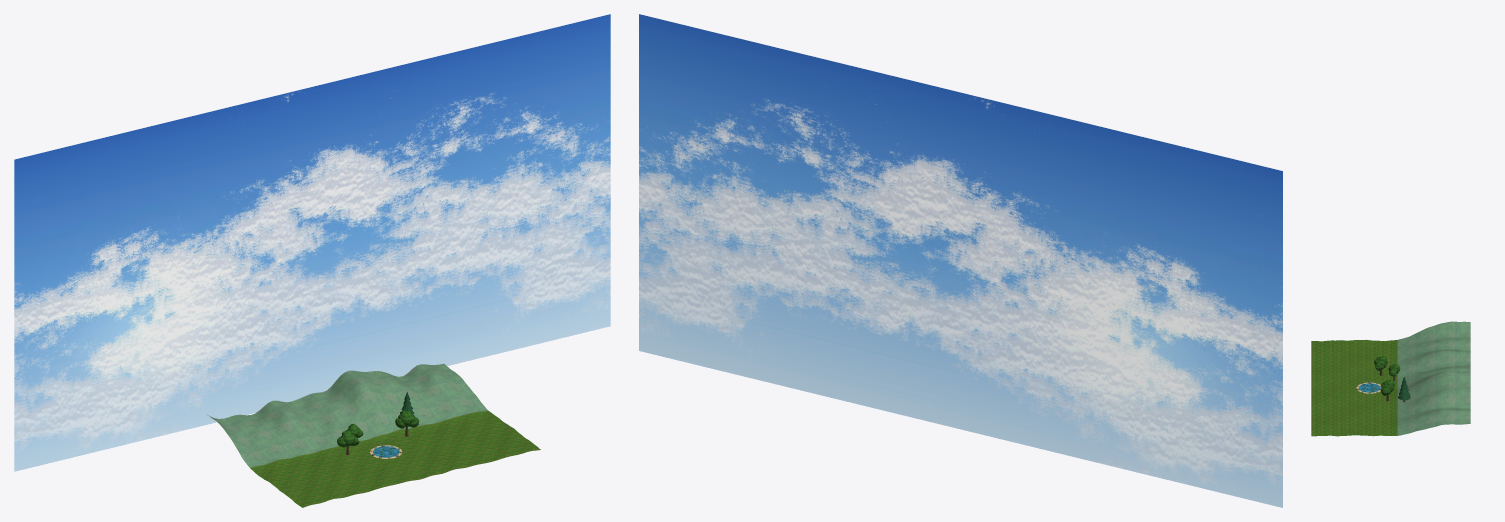
The model's file is PROP_BG_POND.glb.
The picture shows the model from 3 angles, left to right: view 1: azimuth 30°, elevation 25°; view 2: azimuth 150°, elevation 25°; view 3: azimuth 270°, elevation 25°; orthographic projection. The views are drawn at different scales.
Visible parts, largest first — view 1: PROP_BG_POND_2, PROP_BG_POND_1, PROP_BG_POND_0; view 2: PROP_BG_POND_2; view 3: PROP_BG_POND_0, PROP_BG_POND_1.
Part boxes in pixels (bbox=[...]): PROP_BG_POND_2: bbox=[14, 14, 610, 471]; PROP_BG_POND_1: bbox=[206, 363, 487, 467]; PROP_BG_POND_0: bbox=[250, 410, 540, 507]; PROP_BG_POND_2: bbox=[639, 14, 1282, 507]; PROP_BG_POND_0: bbox=[1311, 339, 1397, 436]; PROP_BG_POND_1: bbox=[1397, 321, 1470, 435].
Size of the model in its own units: 170 by 85.09 by 54.
Materials: 11 (10 with a texture image).
